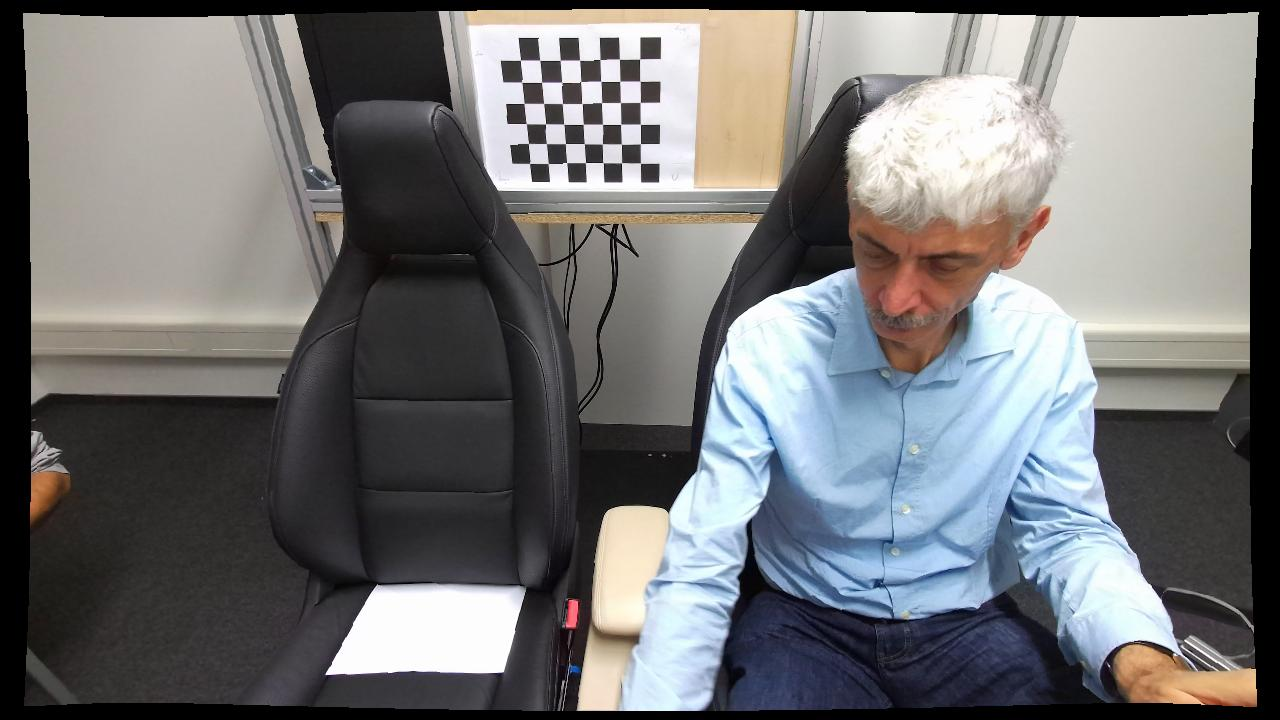Distracted: (619, 71, 1143, 708)
